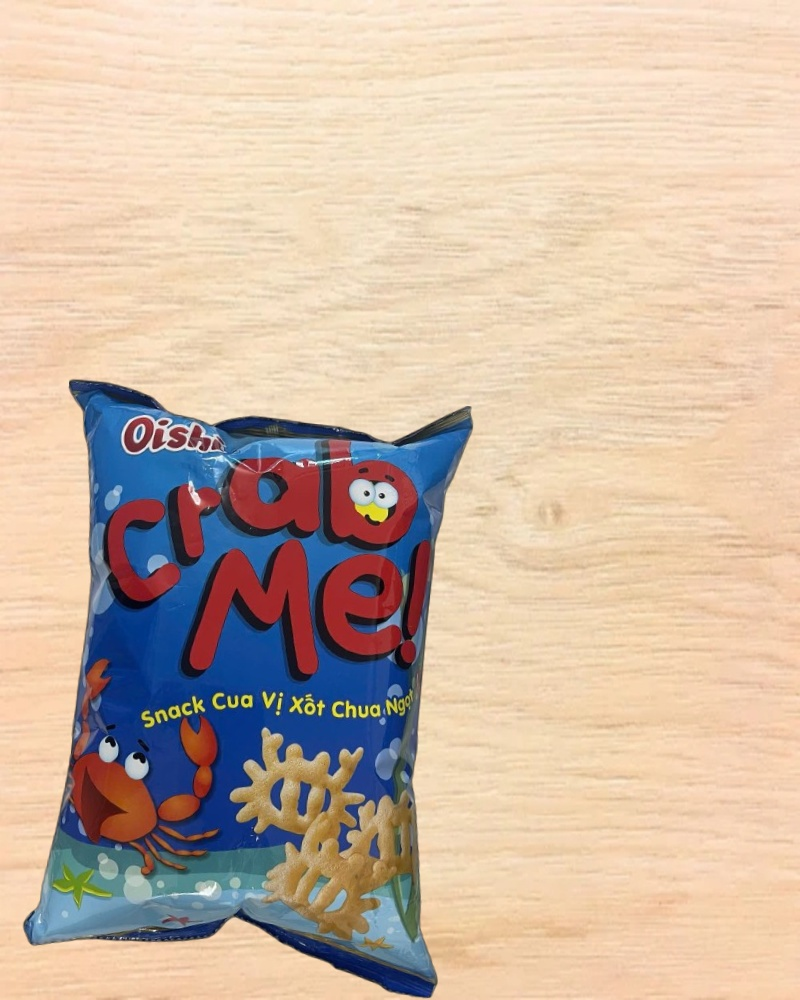Snack cua: (20, 372, 487, 993)
